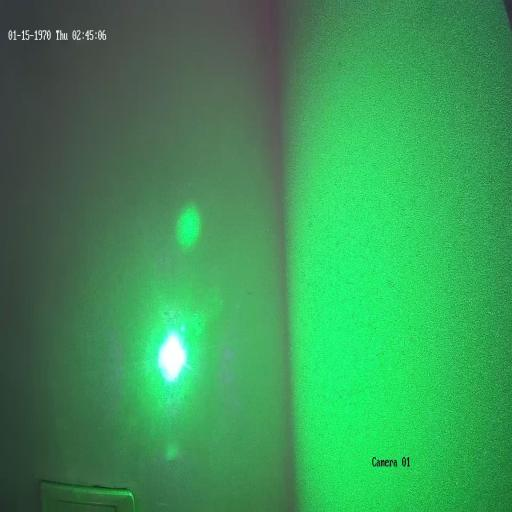laser: (152, 321, 191, 388)
